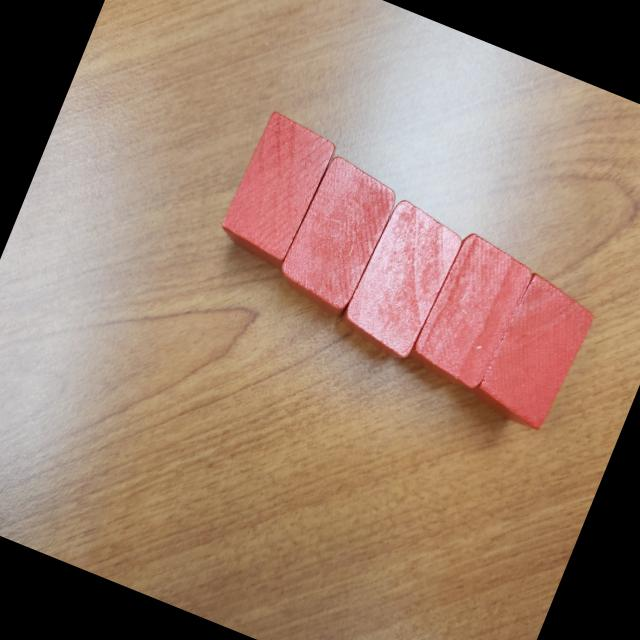red: (464, 266, 602, 435), (404, 228, 538, 399), (336, 194, 469, 364), (272, 152, 404, 318), (213, 108, 339, 270)
